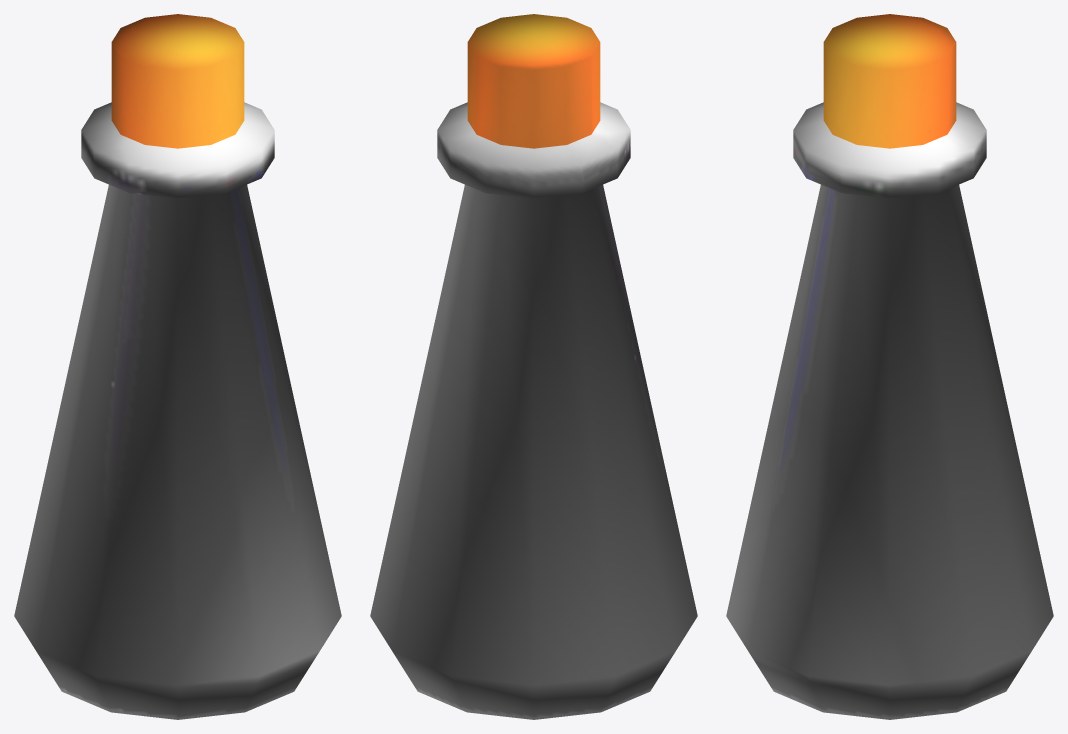
File: Potions3.fbx
3 renders of one model, left to right at view 1: azimuth 30°, elevation 25°; view 2: azimuth 150°, elevation 25°; view 3: azimuth 270°, elevation 25°, orthographic.
Visible parts, largest first — view 1: Cylinder.004; view 2: Cylinder.004; view 3: Cylinder.004.
Boxes of the visible parts, bbox=[...] form: Cylinder.004: bbox=[14, 14, 341, 719]; Cylinder.004: bbox=[370, 14, 697, 719]; Cylinder.004: bbox=[726, 14, 1053, 719].
Size of the model in its own units: 39.7 by 83.05 by 39.7.
